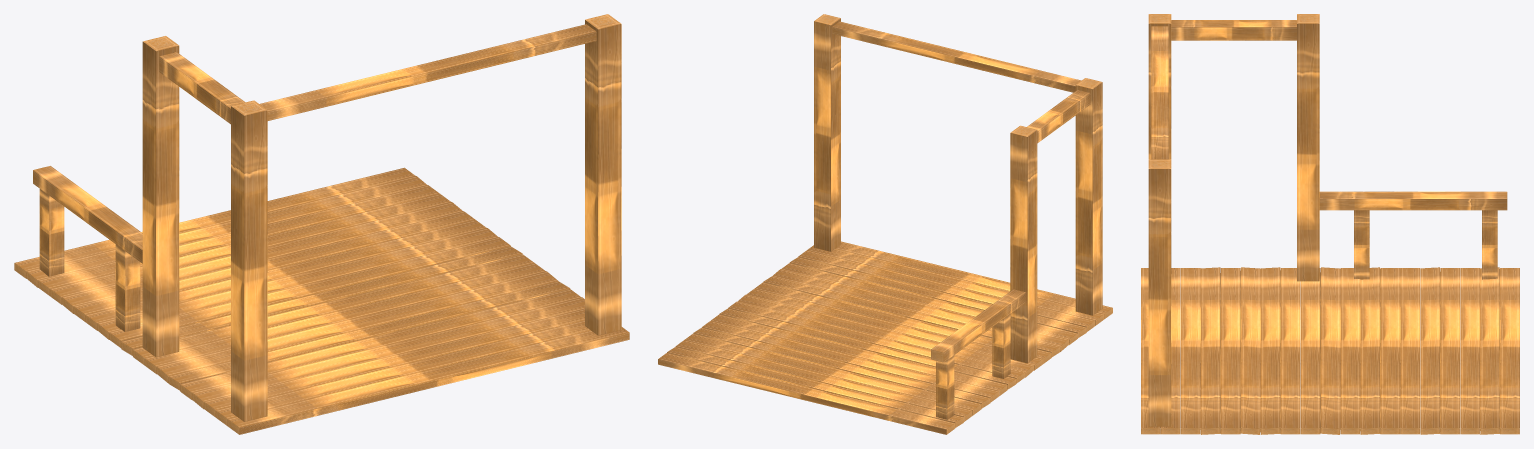
Rendered from SM_Wood_Balcony_01.fbx.
3 views of the same model, side by side, from view 1: azimuth 30°, elevation 25°; view 2: azimuth 150°, elevation 25°; view 3: azimuth 270°, elevation 25° (orthographic). The views are drawn at different scales.
Visible parts, largest first — view 1: SM_Wood_Balcony_01_LOD0; view 2: SM_Wood_Balcony_01_LOD0; view 3: SM_Wood_Balcony_01_LOD0.
Part boxes in pixels (left/top/right/bottom): SM_Wood_Balcony_01_LOD0: left=14, top=14, right=629, bottom=434; SM_Wood_Balcony_01_LOD0: left=658, top=14, right=1112, bottom=434; SM_Wood_Balcony_01_LOD0: left=1141, top=14, right=1519, bottom=434.
Size of the model in its own units: 400 by 400 by 308.
